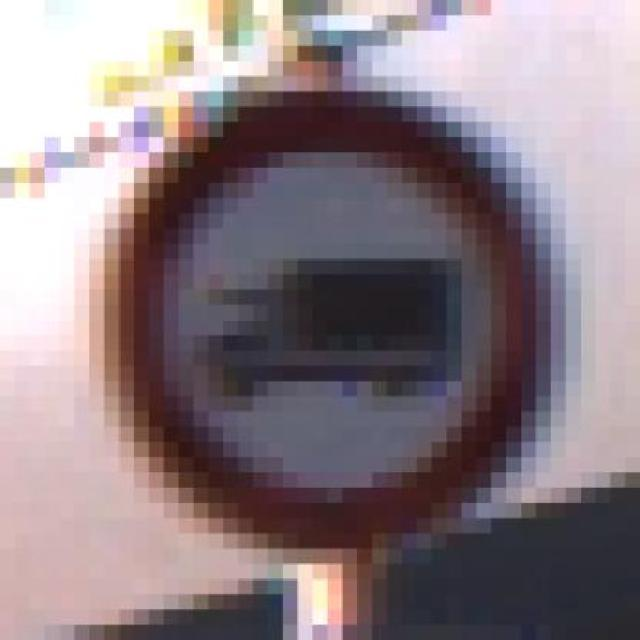Truck traffic is prohibited: (75, 45, 550, 564)
